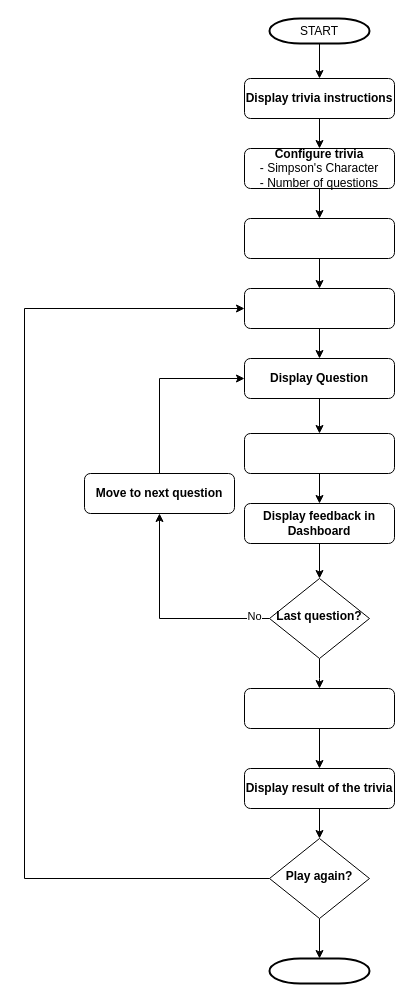
Image size: 412x1001. Some labels were removed from this diagram. Here are the shapes that lost their labels. From the top down, the centre of each, then its label:
At pixel 319 238: "Go!".
At pixel 319 308: "Determine trivia's questions ( Random)".
At pixel 319 453: "Evaluate Answer - Keep scores".
At pixel 319 708: "Calculate level of Knowledge".
At pixel 319 970: "END".
